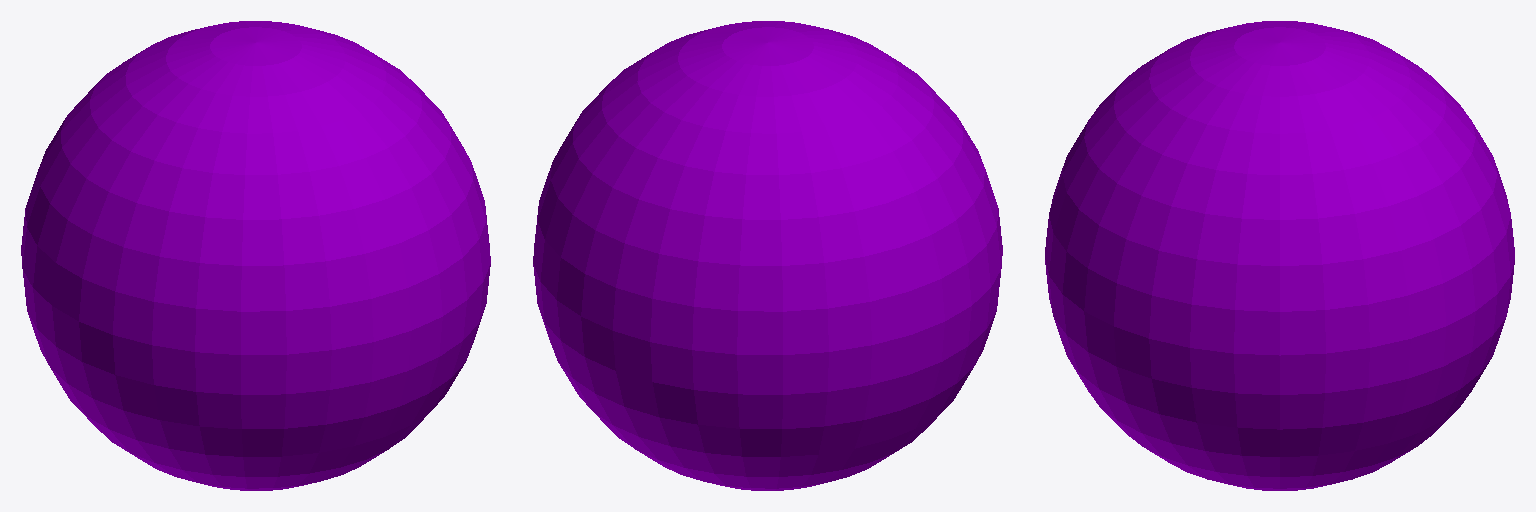
Rendered from ball.obj.
3 renders of one model, left to right at view 1: azimuth 30°, elevation 25°; view 2: azimuth 150°, elevation 25°; view 3: azimuth 270°, elevation 25°, orthographic.
Parts seen in each view (by area): view 1: Sphere; view 2: Sphere; view 3: Sphere.
Boxes of the visible parts, x1,y1,x2,y2 form: Sphere: [21, 21, 490, 490]; Sphere: [533, 21, 1002, 490]; Sphere: [1045, 21, 1514, 490].
Bounding box in the file's own units: 2 × 2 × 2.